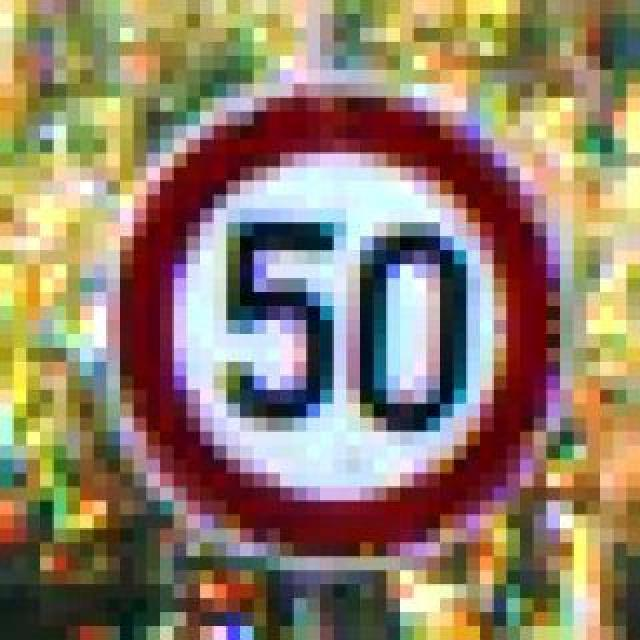50 kph: (92, 56, 560, 572)
